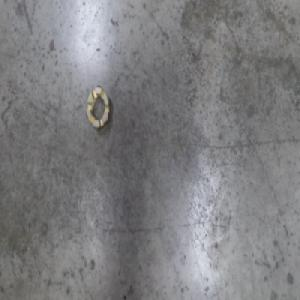Nut: (85, 82, 112, 131)
